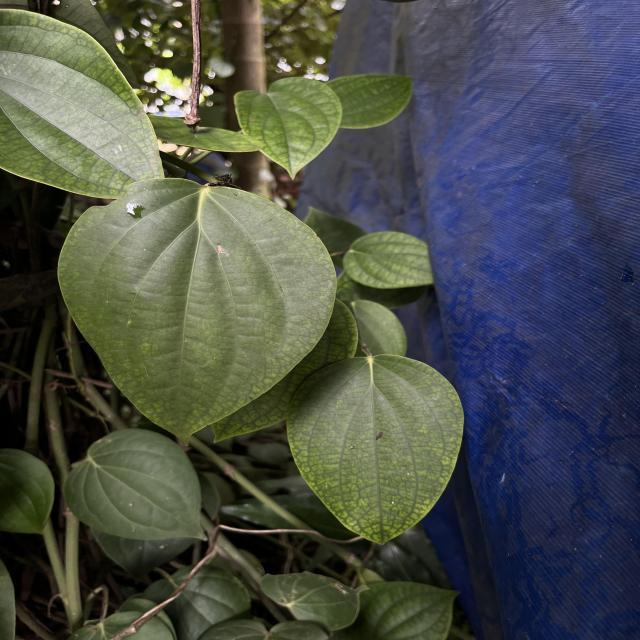Piper nigrum: (55, 175, 339, 445), (284, 354, 466, 546)
